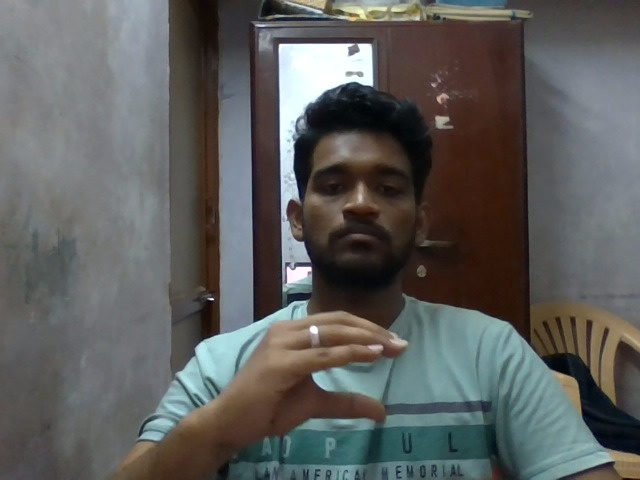C: (205, 305, 415, 464)
